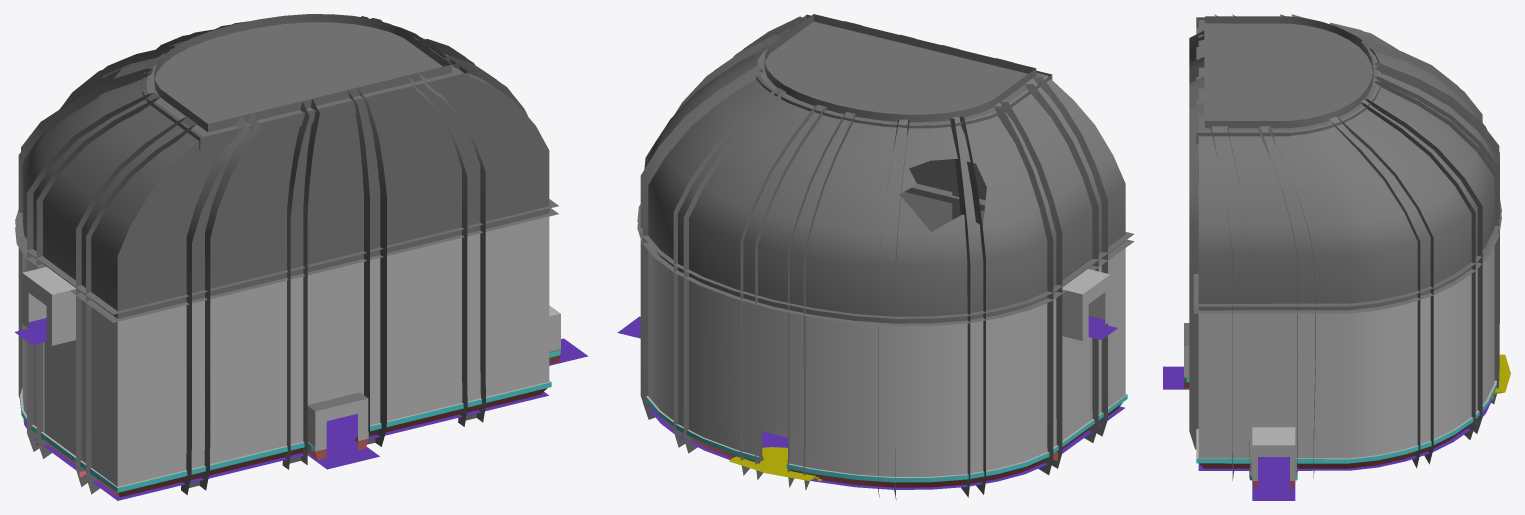
The picture shows the model from 3 angles, left to right: view 1: azimuth 30°, elevation 25°; view 2: azimuth 150°, elevation 25°; view 3: azimuth 270°, elevation 25°; orthographic projection. The views are drawn at different scales.
Parts seen in each view (by area): view 1: R1_1_Wall_LMS, R1_1_Pillar_LMS_0015, R1_1_Pillar_LMS_0011, R1_1_Pillar_LMS_002, R1_1_Pillar_LMS_007, R1_1_Pillar_LMS_0013, R1_1_Pillar_LMS_0016, R1_1_Floor_LMS, R1_1_Pillar_LMS_0012, R1_1_Pillar_LMS_0014, R1_1_Pillar_LMS_009, R1_1_Pillar_LMS_004 (+1 smaller); view 2: R1_1_Wall_LMS, R1_1_Pillar_LMS_0015, R1_1_Pillar_LMS_007, R1_1_Pillar_LMS_0016, R1_1_Pillar_LMS_002, R1_1_Pillar_LMS_001, R1_1_Pillar_LMS_003, R1_1_Pillar_LMS_009, R1_1_Pillar_LMS_005, R1_1_Pillar_LMS_006, R1_1_Floor_LMS, R1_1_Stairs (+1 smaller); view 3: R1_1_Wall_LMS, R1_1_Pillar_LMS_001, R1_1_Pillar_LMS_0015, R1_1_Pillar_LMS_0012, R1_1_Floor_LMS, R1_1_Pillar_LMS_0016, R1_1_Pillar_LMS_003, R1_1_Pillar_LMS_005, R1_1_Pillar_LMS_006, R1_1_Pillar_LMS_004, R1_1_Pillar_LMS_0010, R1_1_Pillar_LMS_008 (+1 smaller).
Boxes of the visible parts, x1,y1,x2,y2 form: R1_1_Wall_LMS: (15, 22, 560, 497); R1_1_Pillar_LMS_0015: (141, 14, 468, 150); R1_1_Pillar_LMS_0011: (181, 113, 261, 494); R1_1_Pillar_LMS_002: (76, 117, 196, 494); R1_1_Pillar_LMS_007: (27, 92, 160, 458); R1_1_Pillar_LMS_0013: (348, 87, 386, 446); R1_1_Pillar_LMS_0016: (15, 199, 558, 322); R1_1_Floor_LMS: (23, 338, 587, 500); R1_1_Pillar_LMS_0012: (407, 73, 485, 426); R1_1_Pillar_LMS_0014: (282, 99, 319, 469); R1_1_Pillar_LMS_009: (18, 68, 152, 398); R1_1_Pillar_LMS_004: (60, 45, 175, 108); R1_1_Wall_LMS: (644, 18, 1127, 487); R1_1_Pillar_LMS_0015: (752, 14, 1052, 128); R1_1_Pillar_LMS_007: (994, 102, 1062, 474); R1_1_Pillar_LMS_0016: (637, 183, 1134, 326); R1_1_Pillar_LMS_002: (1024, 77, 1107, 442); R1_1_Pillar_LMS_001: (673, 88, 786, 453); R1_1_Pillar_LMS_003: (640, 66, 763, 419); R1_1_Pillar_LMS_009: (950, 116, 985, 497); R1_1_Pillar_LMS_005: (740, 104, 826, 479); R1_1_Pillar_LMS_006: (787, 112, 855, 490); R1_1_Floor_LMS: (617, 316, 1125, 489); R1_1_Stairs: (729, 447, 821, 481); R1_1_Wall_LMS: (1184, 20, 1496, 488); R1_1_Pillar_LMS_001: (1360, 99, 1482, 439); R1_1_Pillar_LMS_0015: (1196, 16, 1381, 143); R1_1_Pillar_LMS_0012: (1189, 102, 1204, 449); R1_1_Floor_LMS: (1163, 366, 1494, 500); R1_1_Pillar_LMS_0016: (1193, 199, 1501, 313); R1_1_Pillar_LMS_003: (1329, 116, 1433, 468); R1_1_Pillar_LMS_005: (1374, 76, 1499, 403); R1_1_Pillar_LMS_006: (1374, 62, 1499, 167); R1_1_Pillar_LMS_004: (1361, 40, 1482, 122); R1_1_Pillar_LMS_0010: (1258, 126, 1315, 478); R1_1_Pillar_LMS_008: (1210, 126, 1250, 480).
Size of the model in its own units: 5141 by 3317 by 3255.
